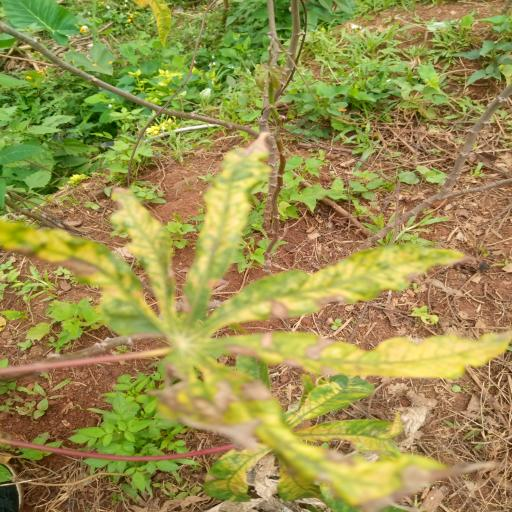Cassava_Mosaic: (18, 132, 504, 473), (158, 368, 446, 512)
